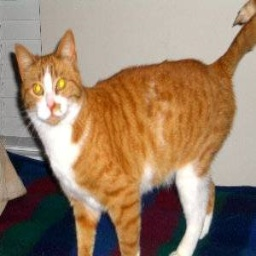cat: (14, 28, 234, 256)
